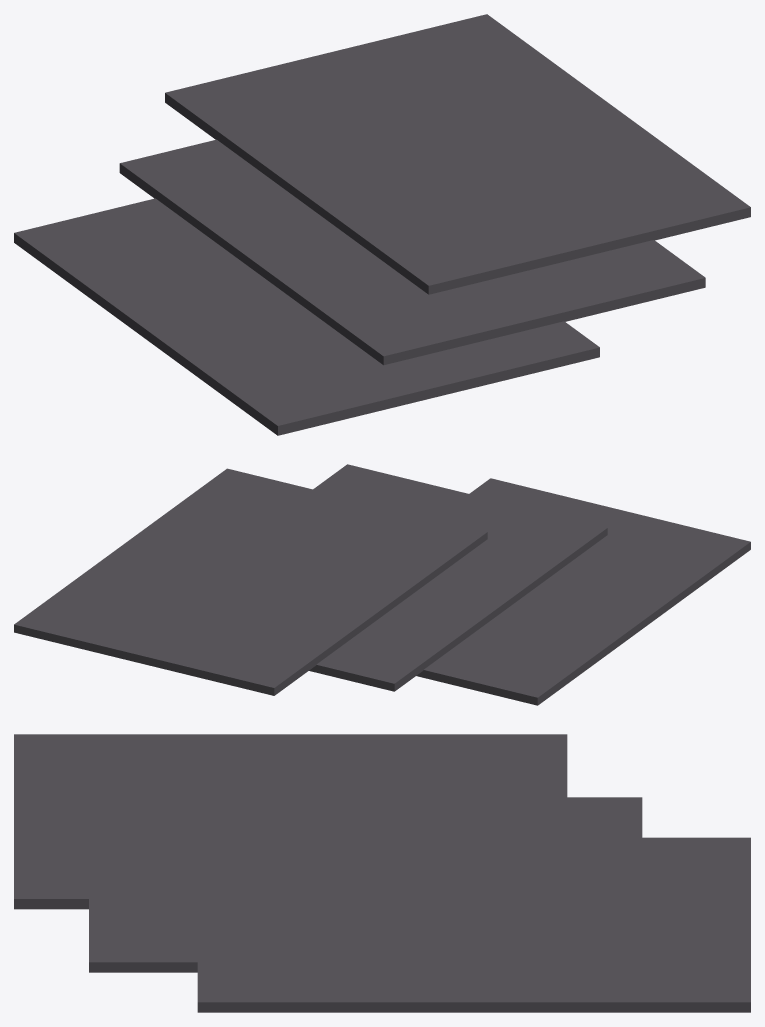
The model's file is Steel panel.fbx.
The picture shows the model from 3 angles, top to bottom: view 1: azimuth 30°, elevation 25°; view 2: azimuth 150°, elevation 25°; view 3: azimuth 270°, elevation 25°; orthographic projection. The views are drawn at different scales.
Visible parts, largest first — view 1: steel_panel; view 2: steel_panel; view 3: steel_panel.
Part boxes in pixels (x1=…): steel_panel: x1=14, y1=14, x2=750, y2=435; steel_panel: x1=14, y1=464, x2=750, y2=705; steel_panel: x1=14, y1=734, x2=750, y2=1012.
Bounding box in the file's own units: 1.64 × 0.0773 × 1.78.
